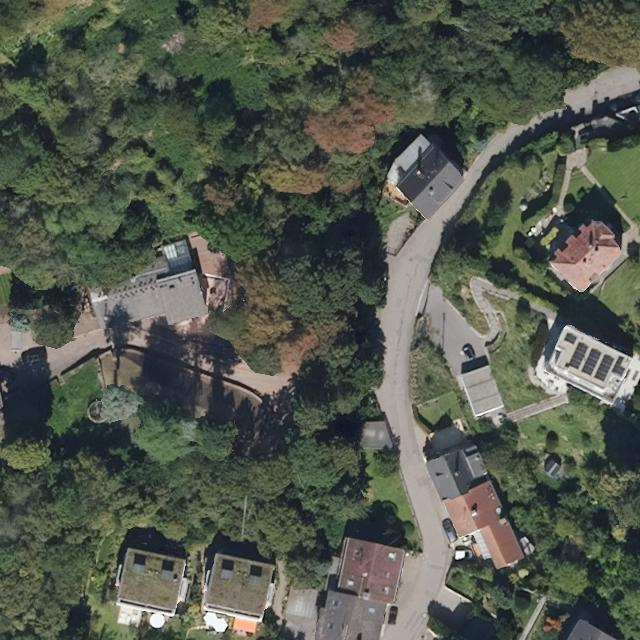PV: (568, 341, 627, 383), (564, 332, 577, 346)
